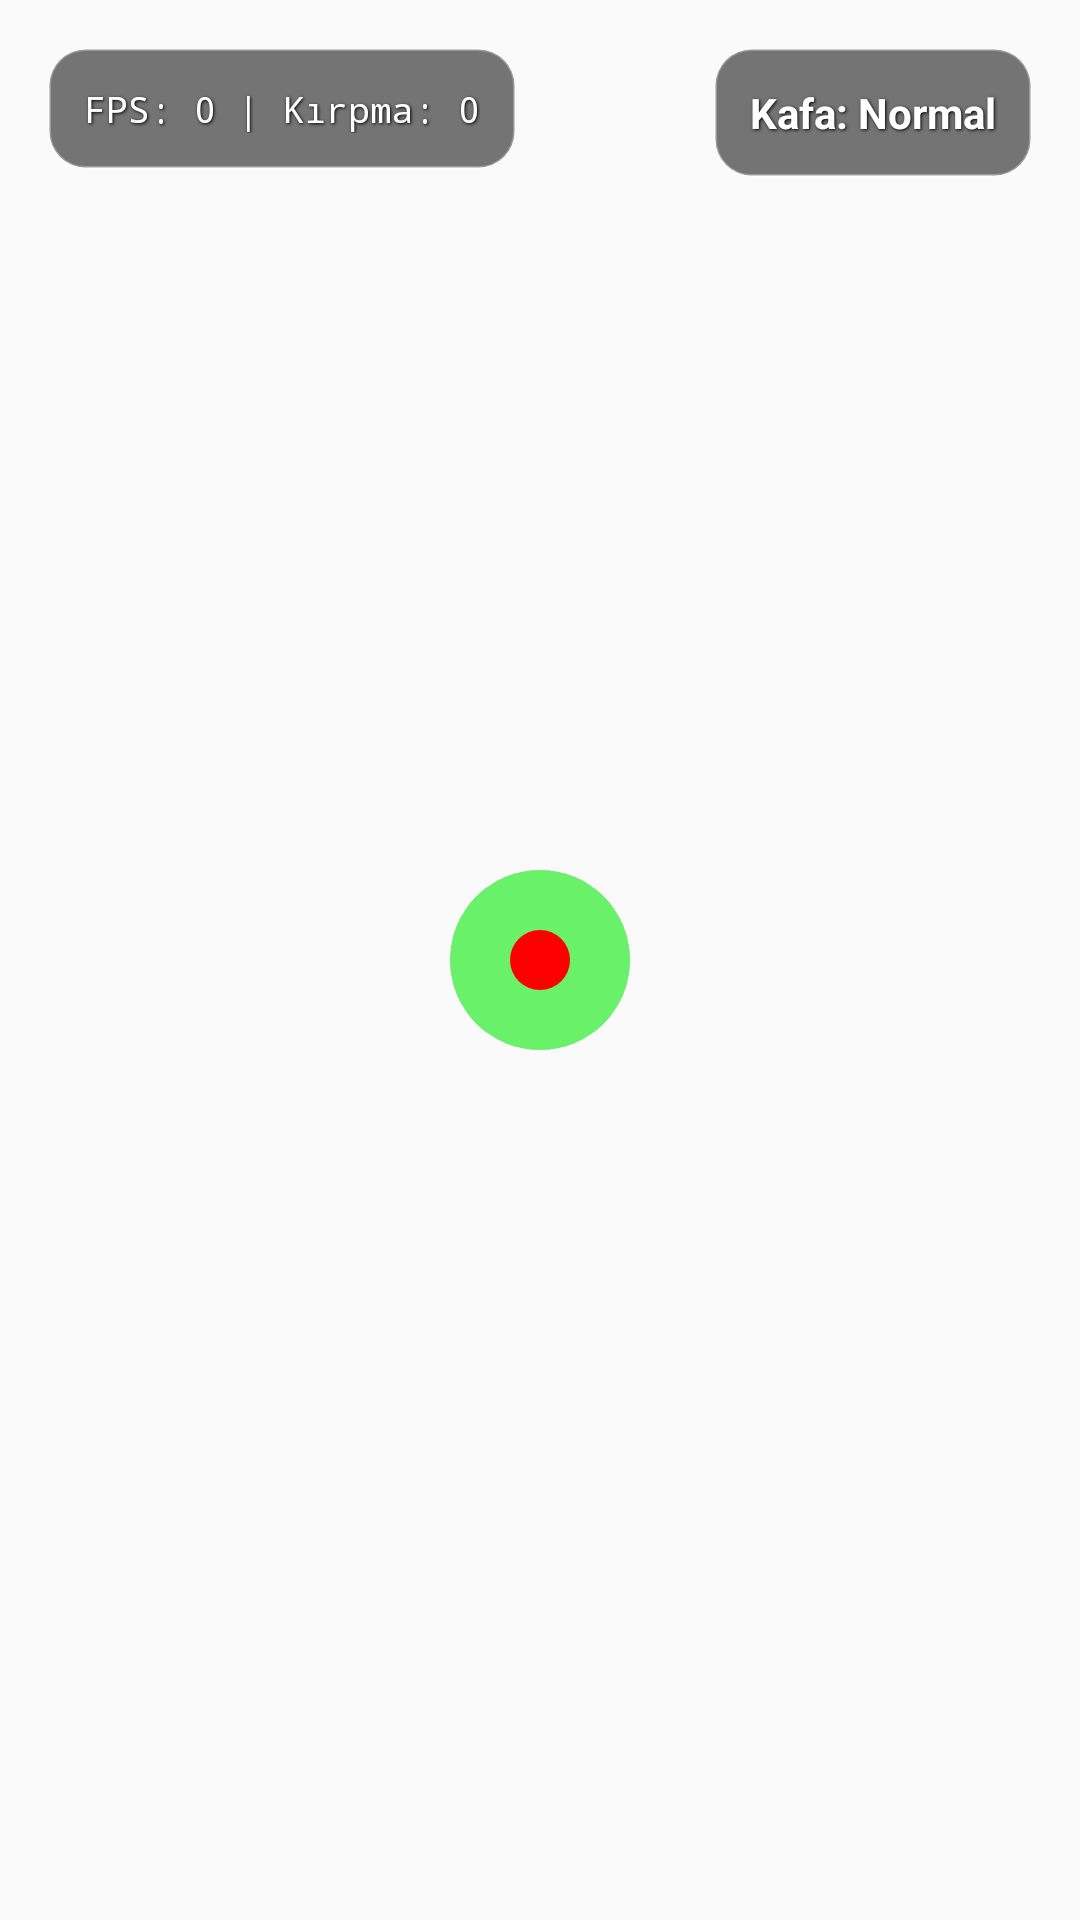

Where icons sit on this 1080w x 1920h app screen, as (x1, y1, x2, y2):
gaze cursor dot: (450, 870, 630, 1050)
